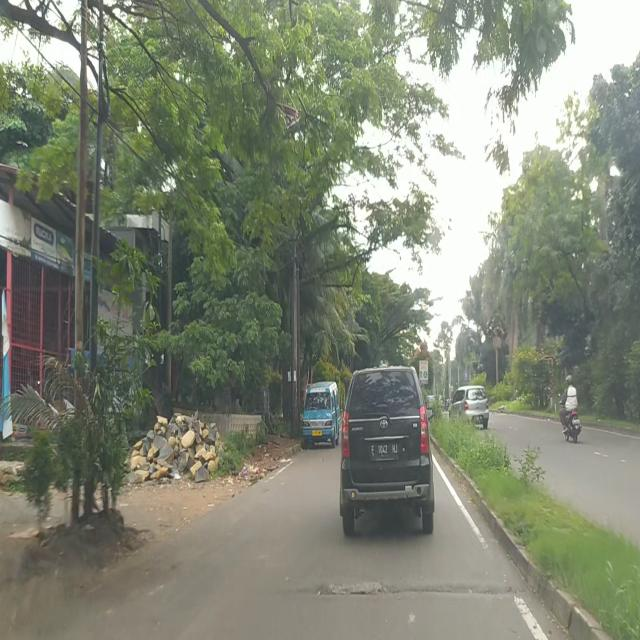Sewer Cover: (310, 585, 512, 599)
